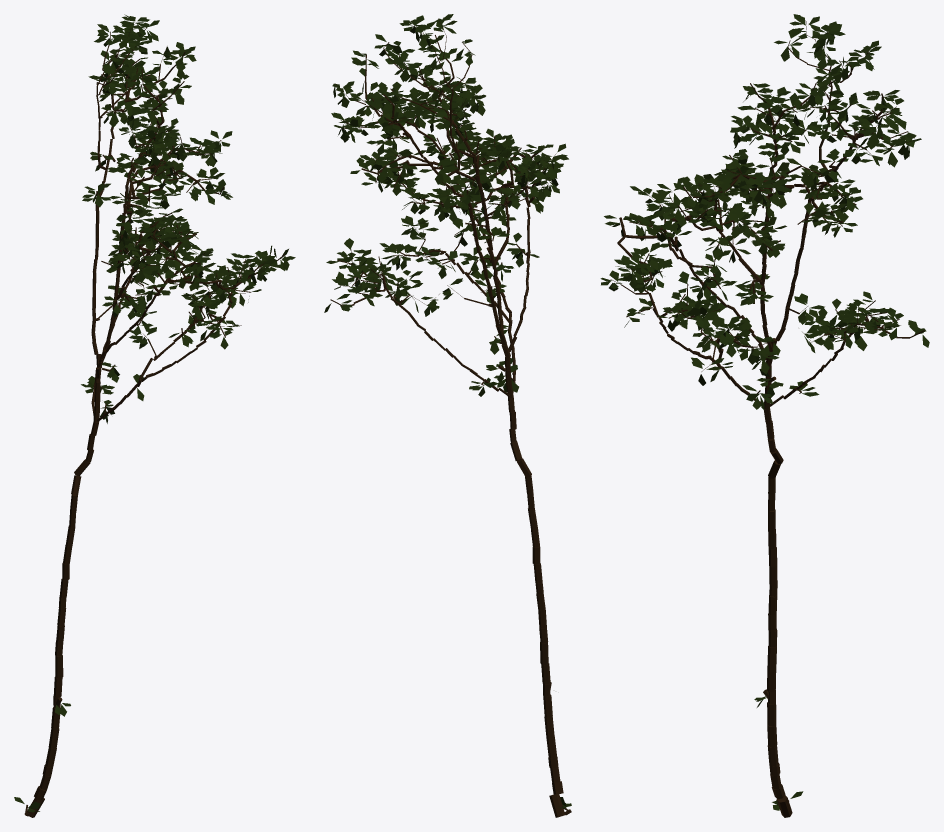
File: 2022_tree_302.obj
The picture shows the model from 3 angles, left to right: view 1: azimuth 30°, elevation 25°; view 2: azimuth 150°, elevation 25°; view 3: azimuth 270°, elevation 25°; orthographic projection. The views are drawn at different scales.
Visible parts, largest first — view 1: Leaves, TrunkAndBranches; view 2: Leaves, TrunkAndBranches; view 3: Leaves, TrunkAndBranches.
Part boxes in pixels (x1,y1,x2,y2): Leaves: (14,14,295,812); TrunkAndBranches: (24,23,284,817); Leaves: (324,14,571,808); TrunkAndBranches: (330,18,571,817); Leaves: (600,14,929,810); TrunkAndBranches: (610,21,924,817).
Size of the model in its own units: 5.28 by 16.76 by 5.84.
